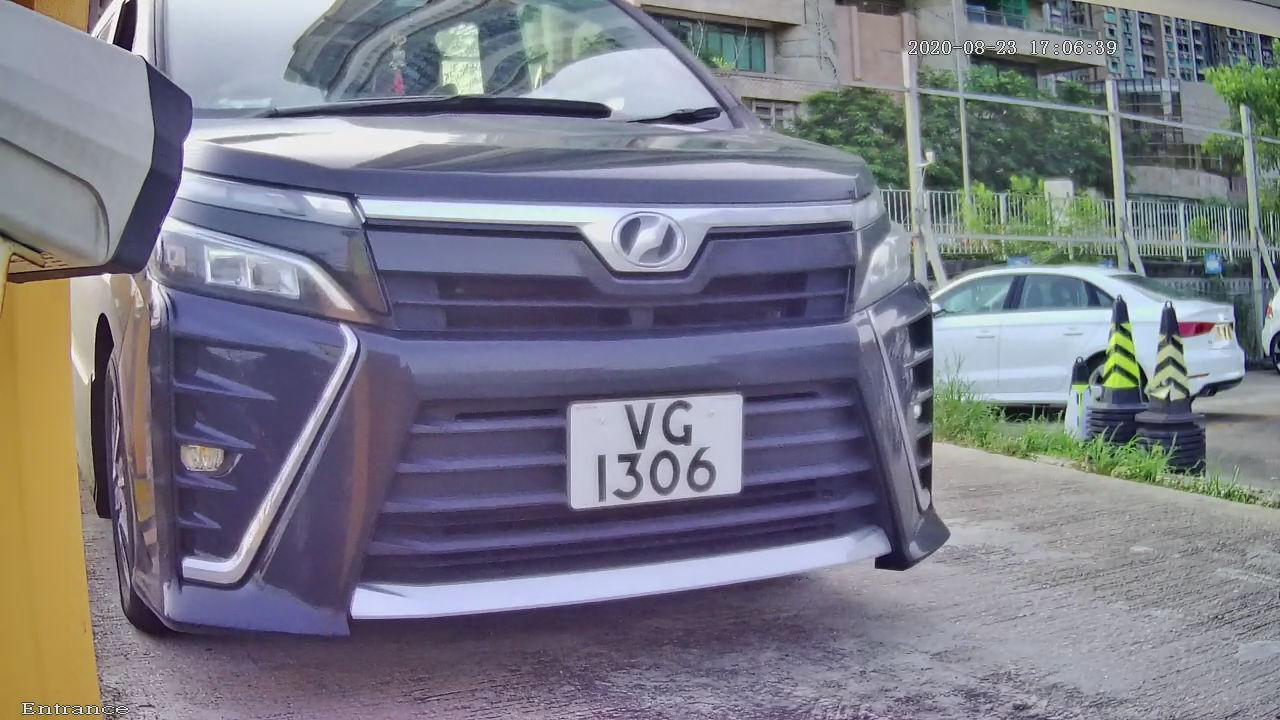Car: (29, 4, 1006, 701)
License Plate: (549, 377, 755, 531)
